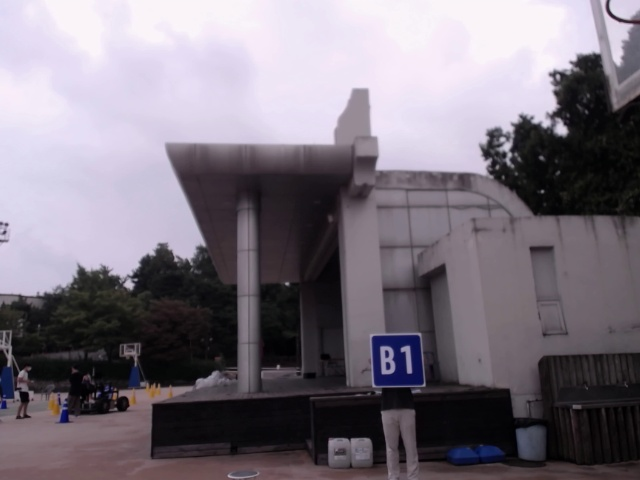delivery_b1: (371, 334, 426, 387)
